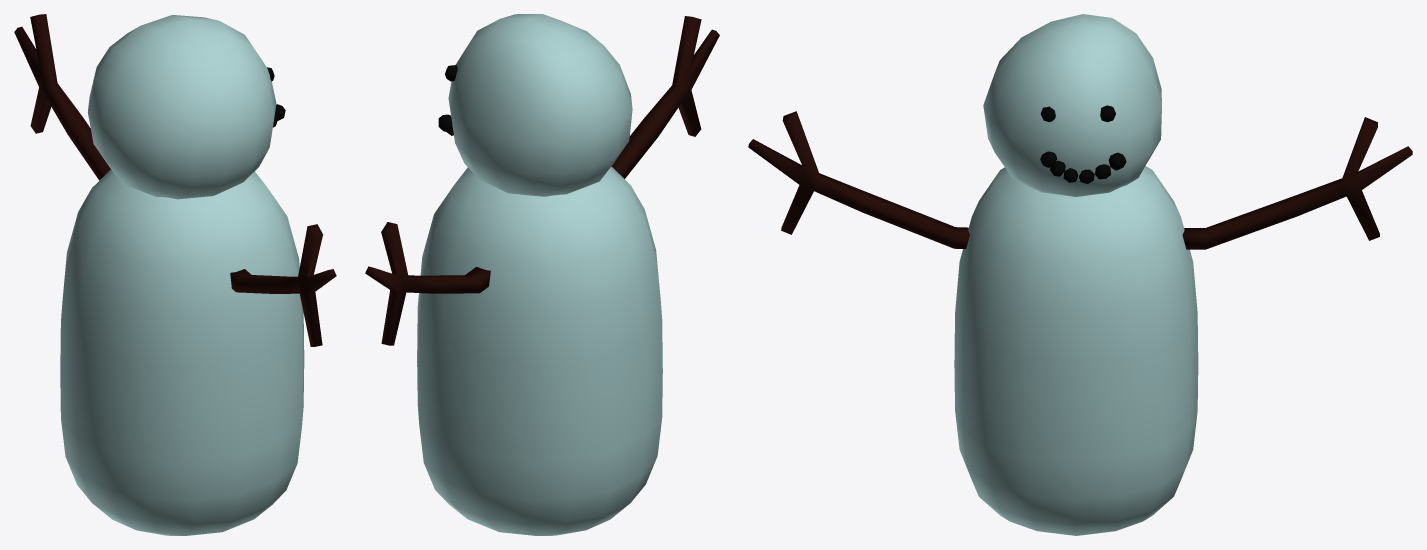
Rendered from Snowman.obj.
3 views of the same model, side by side, from view 1: azimuth 30°, elevation 25°; view 2: azimuth 150°, elevation 25°; view 3: azimuth 270°, elevation 25° (orthographic).
Parts seen in each view (by area): view 1: Brazos; view 2: Brazos; view 3: Brazos.
Part boxes in pixels (x1,y1,x2,y2): Brazos: (14, 14, 336, 535); Brazos: (365, 14, 719, 535); Brazos: (748, 14, 1412, 535).
Bounding box in the file's own units: 1.83 × 4.14 × 4.99.
